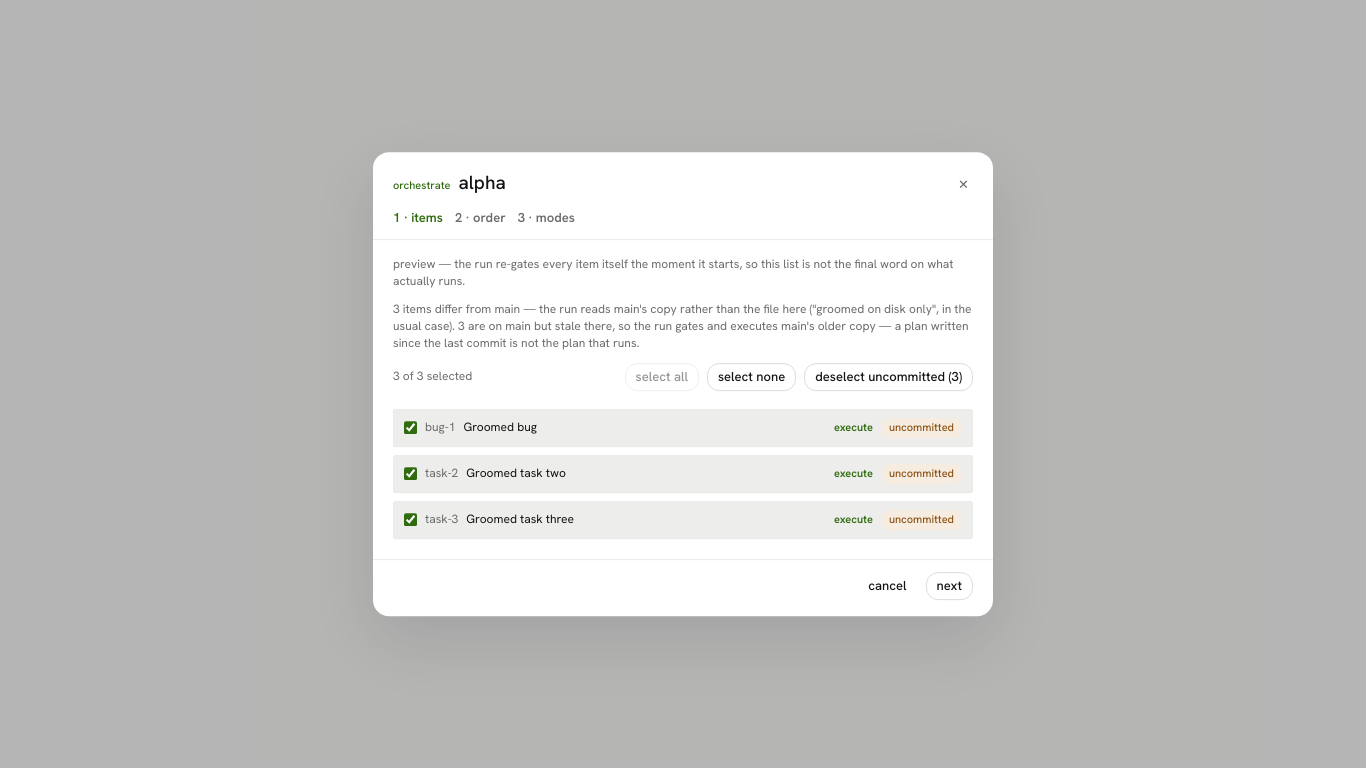
Test: OrchestrateSheet — the uncommitted flag › case 20: deselecting every row falls into the existing empty-selection refusal, not a new one
The image size is (1366, 768).
Click the button "deselect uncommitted (3)".
click(889, 377)  # box left=804, top=363, right=973, bottom=391
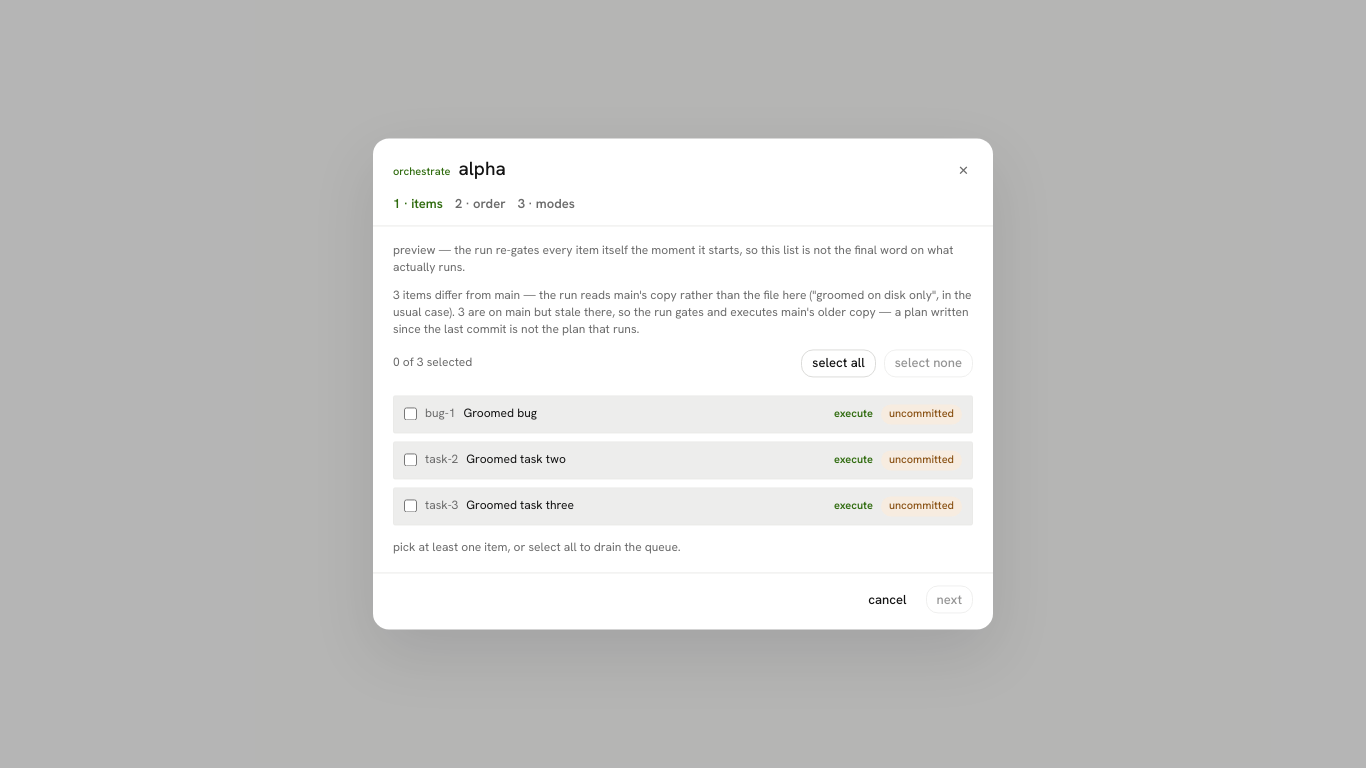
expect the text "pick at least one item, or select all to drain the queue." is shown: met, box left=393, top=539, right=681, bottom=555
expect the text "0 of 3 selected" is shown: met, box left=393, top=354, right=472, bottom=372
expect the button "next" is disabled: met, box left=926, top=586, right=973, bottom=614
